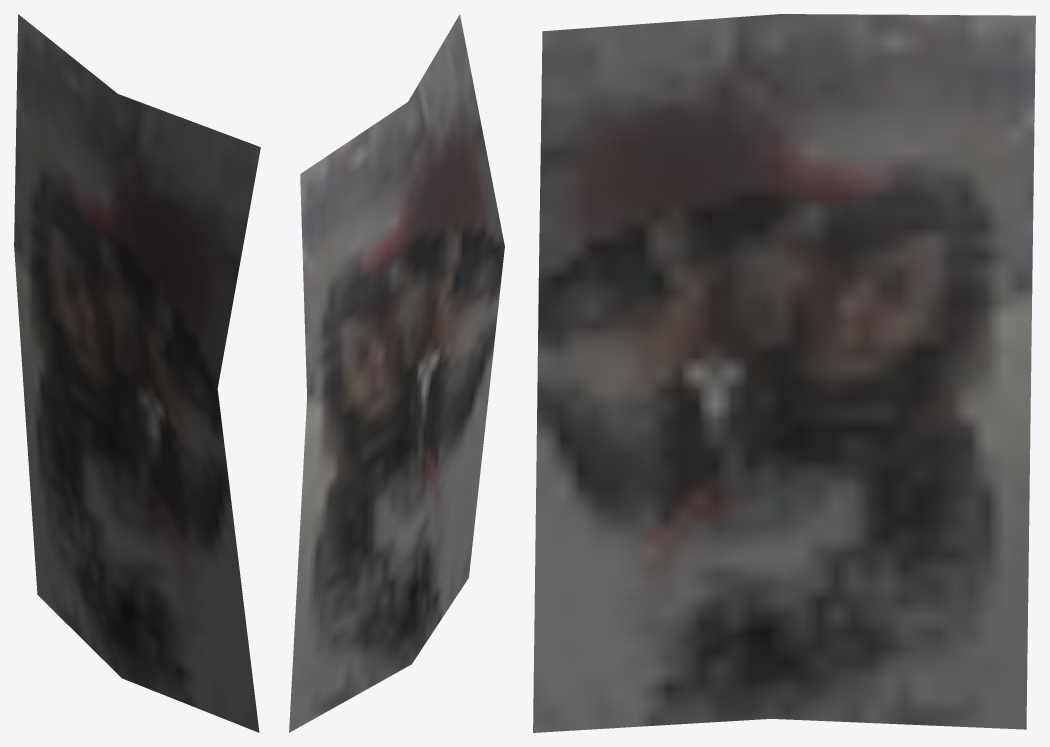
Rendered from Photo01.FBX.
The picture shows the model from 3 angles, left to right: view 1: azimuth 30°, elevation 25°; view 2: azimuth 150°, elevation 25°; view 3: azimuth 270°, elevation 25°; orthographic projection. The views are drawn at different scales.
Parts seen in each view (by area): view 1: Photo01; view 2: Photo01; view 3: Photo01.
Boxes of the visible parts, <box> form: Photo01: <box>14,14,260,732</box>; Photo01: <box>289,14,504,732</box>; Photo01: <box>533,14,1035,732</box>.
Bounding box in the file's own units: 0.2868 × 3.61 × 2.3.
